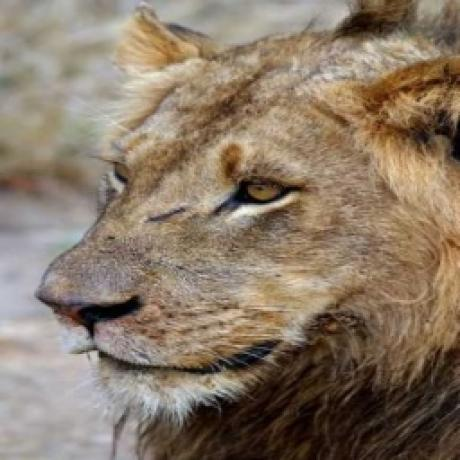Lion: (36, 0, 460, 460)
